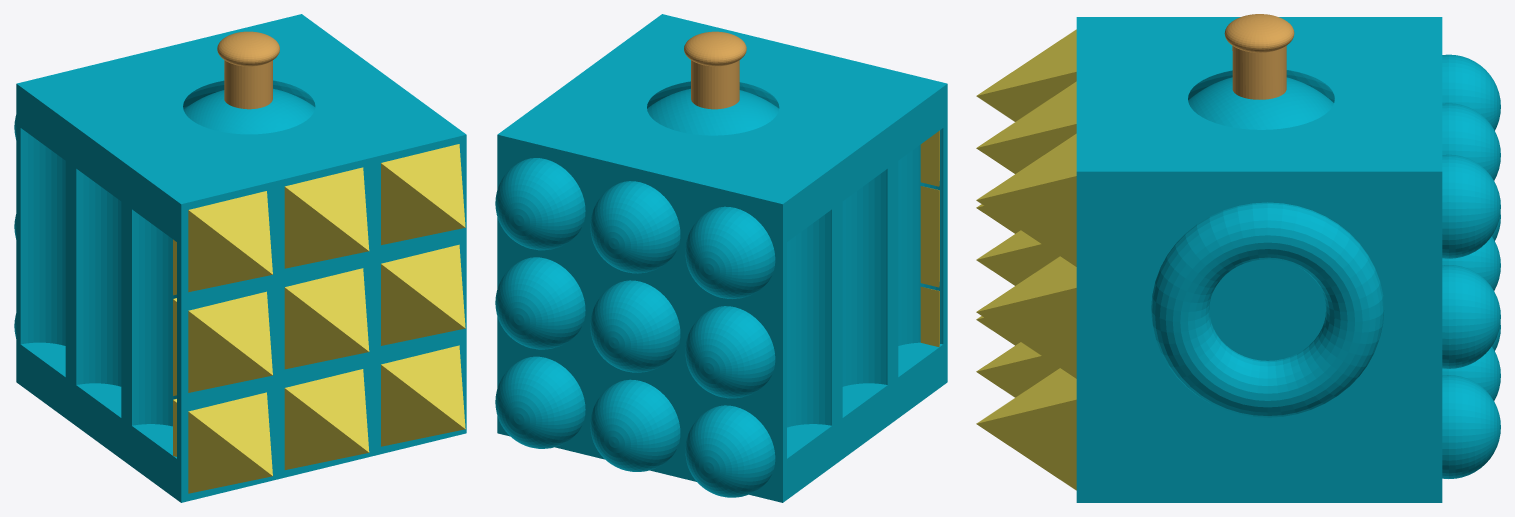
The model's file is Wesley B-fidget-titanium.glb.
The picture shows the model from 3 angles, left to right: view 1: azimuth 30°, elevation 25°; view 2: azimuth 150°, elevation 25°; view 3: azimuth 270°, elevation 25°; orthographic projection. The views are drawn at different scales.
Parts seen in each view (by area): view 1: Mesh_Mesh_head_geo.001_lambert2SG.001; view 2: Mesh_Mesh_head_geo.001_lambert2SG.001; view 3: Mesh_Mesh_head_geo.001_lambert2SG.001.
Part boxes in pixels (x1=…): Mesh_Mesh_head_geo.001_lambert2SG.001: x1=14, y1=14, x2=466, y2=502; Mesh_Mesh_head_geo.001_lambert2SG.001: x1=495, y1=14, x2=947, y2=502; Mesh_Mesh_head_geo.001_lambert2SG.001: x1=976, y1=14, x2=1500, y2=502.
Bounding box in the file's own units: 0.0437 × 0.0493 × 0.0574.
